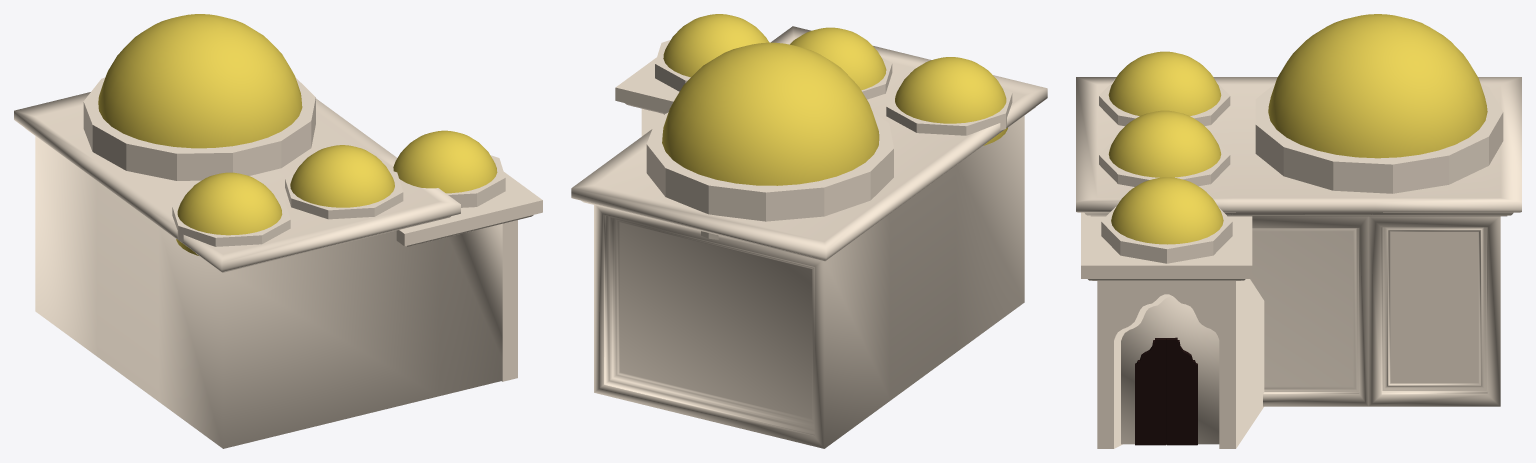
Rendered from lasn.glb.
3 renders of one model, left to right at view 1: azimuth 30°, elevation 25°; view 2: azimuth 150°, elevation 25°; view 3: azimuth 270°, elevation 25°, orthographic. The views are drawn at different scales.
Visible parts, largest first — view 1: Cube, Sphere, Circle, Sphere003, Sphere002, Sphere001, Cube003, Cube001, Circle002, Circle003, Circle001; view 2: Cube, Sphere, Circle, Sphere003, Sphere001, Sphere002, Cube003, Circle003, Circle001, Circle002; view 3: Cube, Sphere, Cube001, Circle, Cube003_1, Cube003, Sphere001, Sphere002, Sphere003, Circle001, Circle002, Circle003.
Part boxes in pixels (box(x1,y1,x2,y2)): Cube: box(14, 92, 502, 448); Sphere: box(98, 14, 302, 148); Circle: box(83, 77, 315, 180); Sphere003: box(176, 172, 282, 255); Sphere002: box(290, 145, 394, 207); Sphere001: box(393, 130, 497, 193); Cube003: box(396, 172, 542, 246); Cube001: box(502, 220, 517, 381); Circle002: box(285, 169, 403, 219); Circle003: box(172, 197, 290, 246); Circle001: box(446, 155, 505, 207); Cube: box(571, 26, 1047, 448); Sphere: box(662, 42, 879, 185); Circle: box(646, 112, 893, 239); Sphere003: box(895, 57, 1007, 145); Sphere001: box(663, 14, 768, 77); Sphere002: box(790, 27, 886, 90); Cube003: box(615, 42, 770, 113); Circle003: box(886, 83, 1012, 135); Circle001: box(655, 40, 690, 91); Circle002: box(861, 57, 892, 99); Cube: box(1076, 77, 1521, 444); Sphere: box(1268, 14, 1487, 158); Cube001: box(1097, 279, 1264, 448); Circle: box(1255, 83, 1503, 193); Cube003_1: box(1135, 337, 1197, 445); Cube003: box(1081, 212, 1252, 280); Sphere001: box(1111, 177, 1223, 244); Sphere002: box(1108, 110, 1221, 177); Sphere003: box(1108, 51, 1221, 115); Circle001: box(1101, 207, 1232, 263); Circle002: box(1099, 139, 1230, 186); Circle003: box(1099, 79, 1230, 126).
Bounding box in the file's own units: 5.67 × 5.09 × 6.27.
